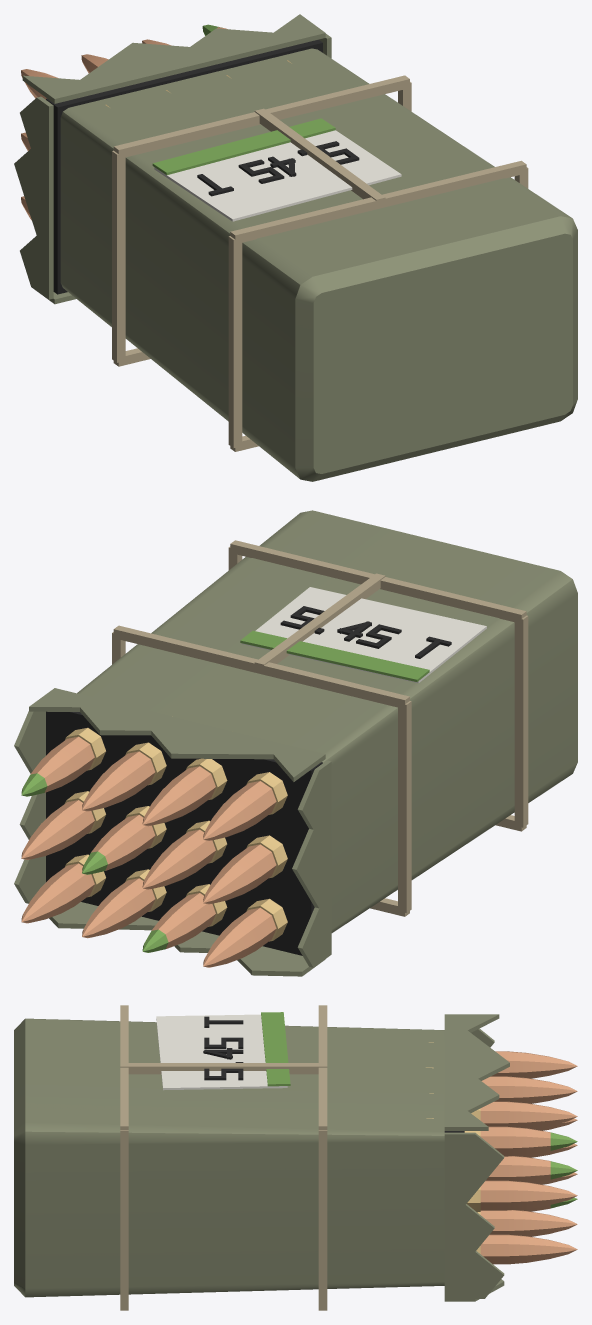
Rendered from ammo_545_t4.glb.
3 views of the same model, one above another, from view 1: azimuth 30°, elevation 25°; view 2: azimuth 150°, elevation 25°; view 3: azimuth 270°, elevation 25° (orthographic). The views are drawn at different scales.
Visible parts, largest first — view 1: body; view 2: body; view 3: body.
Part boxes in pixels (<box>): body: <box>14,14,577,481</box>; body: <box>14,510,577,976</box>; body: <box>14,1005,577,1310</box>.
Size of the model in its own units: 0.0511 by 0.0361 by 0.0995.
